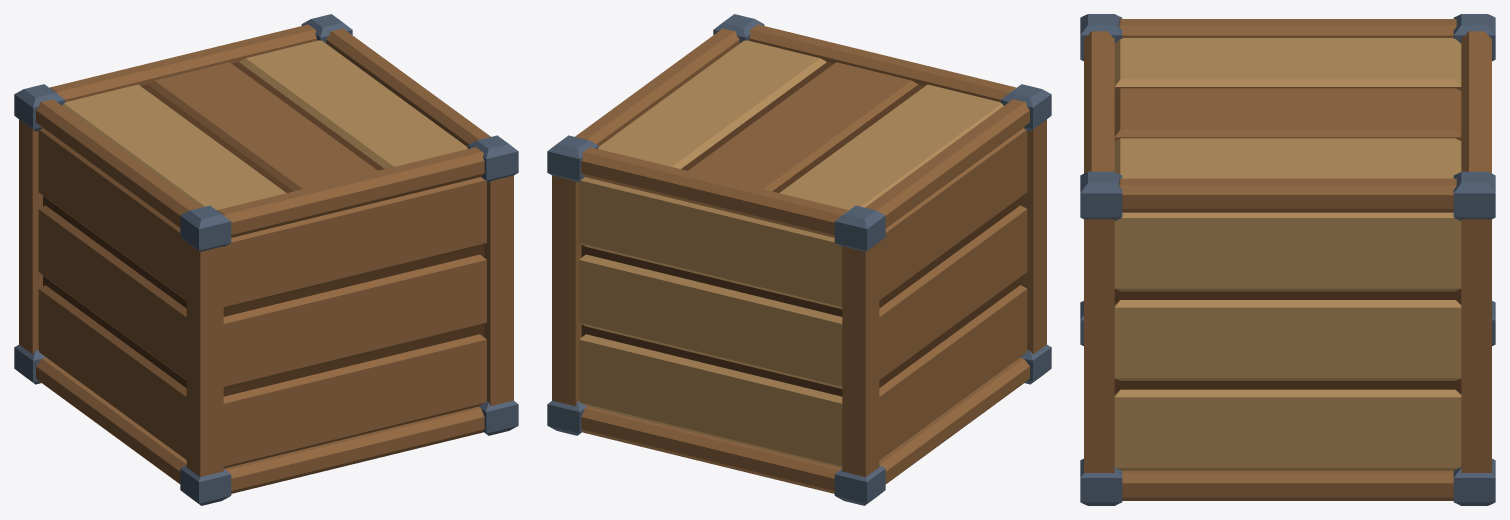
The model's file is Crate_23.glb.
3 views of the same model, side by side, from view 1: azimuth 30°, elevation 25°; view 2: azimuth 150°, elevation 25°; view 3: azimuth 270°, elevation 25° (orthographic). The views are drawn at different scales.
Parts seen in each view (by area): view 1: Crate_23; view 2: Crate_23; view 3: Crate_23.
Part boxes in pixels (x1,y1,x2,y2): Crate_23: (14,14,518,505); Crate_23: (547,14,1051,505); Crate_23: (1080,14,1495,505).
Size of the model in its own units: 2.17 by 1.87 by 2.17.
